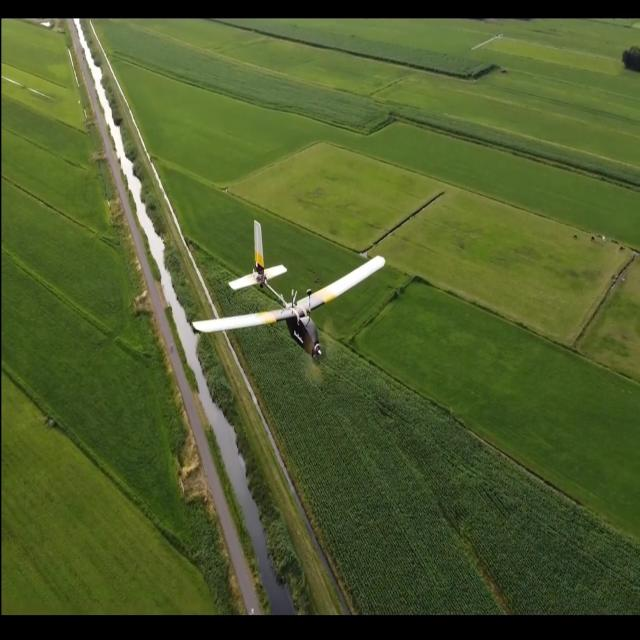iha: (191, 213, 385, 366)
